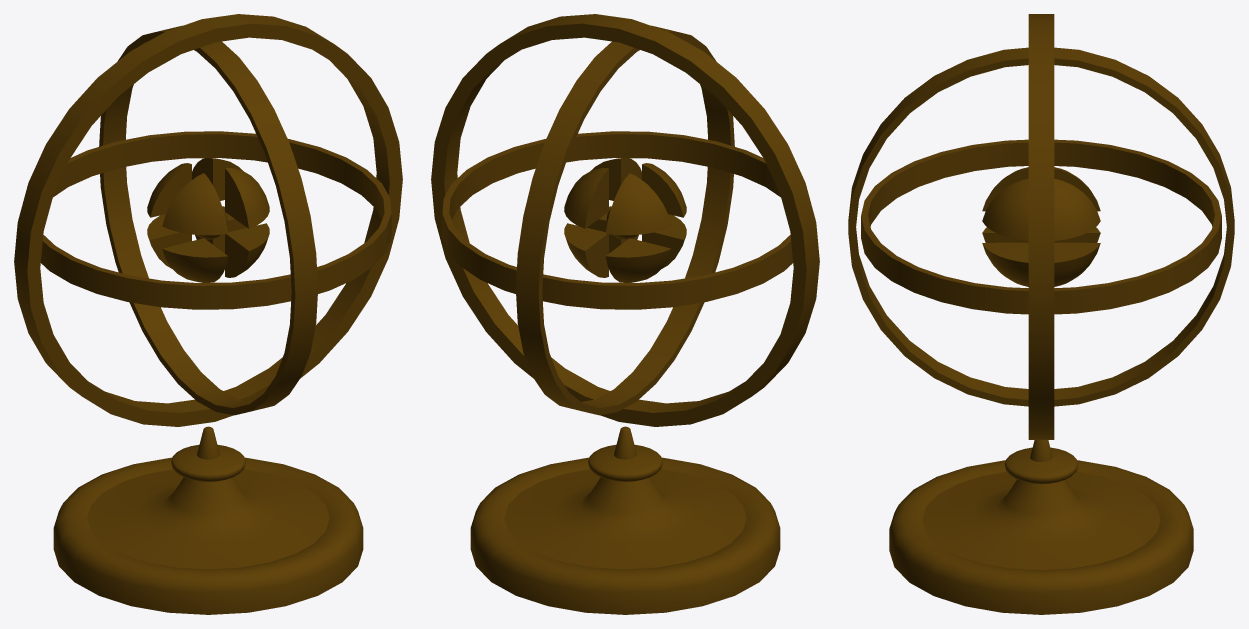
Rendered from SM_Lamp.fbx.
3 views of the same model, side by side, from view 1: azimuth 30°, elevation 25°; view 2: azimuth 150°, elevation 25°; view 3: azimuth 270°, elevation 25° (orthographic).
Visible parts, largest first — view 1: Cylinder001, Torus007, Torus011, Torus012, Sphere002; view 2: Cylinder001, Torus007, Torus011, Torus012, Sphere002; view 3: Cylinder001, Torus012, Torus011, Torus007, Sphere002.
Part boxes in pixels (box(x1,y1,x2,y2)): Cylinder001: box(53, 426, 363, 614); Torus007: box(14, 14, 402, 426); Torus011: box(99, 25, 317, 415); Torus012: box(40, 131, 391, 309); Sphere002: box(147, 158, 269, 282); Cylinder001: box(470, 426, 780, 614); Torus007: box(431, 14, 819, 426); Torus011: box(516, 25, 734, 415); Torus012: box(442, 131, 793, 309); Sphere002: box(564, 158, 686, 282); Cylinder001: box(889, 440, 1193, 614); Torus012: box(861, 139, 1221, 314); Torus011: box(848, 47, 1234, 406); Torus007: box(1028, 14, 1054, 439); Sphere002: box(982, 167, 1100, 286).
Size of the model in its own units: 138 by 125 by 184.
